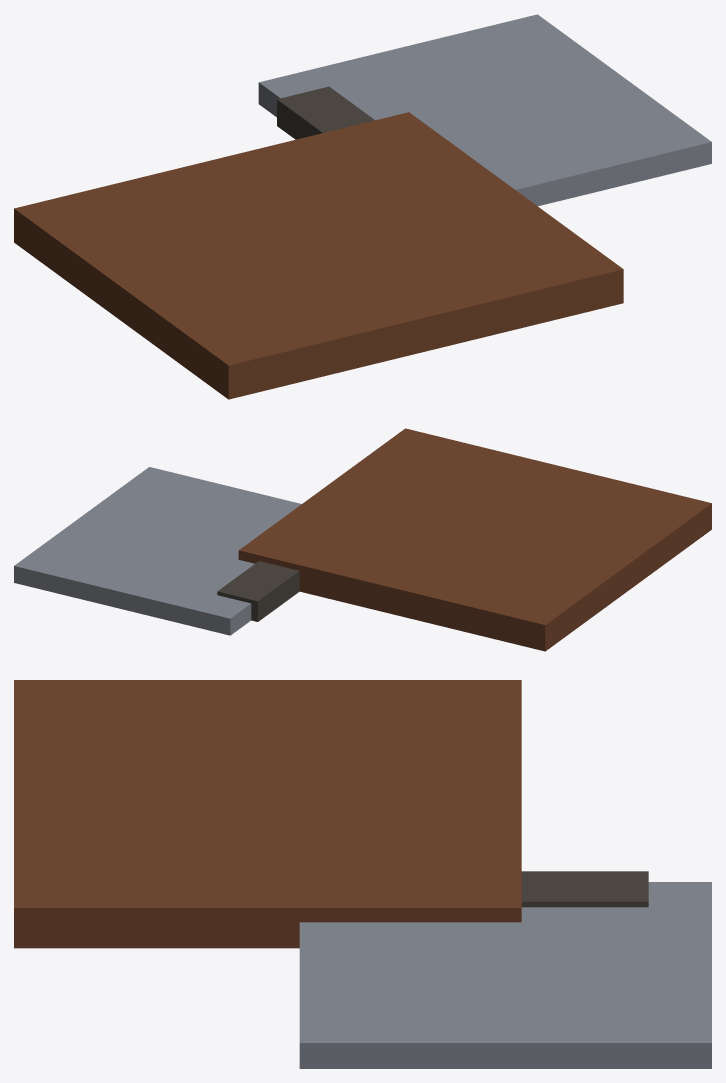
The model's file is salvage_patch_scab.glb.
3 views of the same model, one above another, from view 1: azimuth 30°, elevation 25°; view 2: azimuth 150°, elevation 25°; view 3: azimuth 270°, elevation 25° (orthographic). The views are drawn at different scales.
Bounding box in the file's own units: 0.52 × 0.028 × 0.44.
